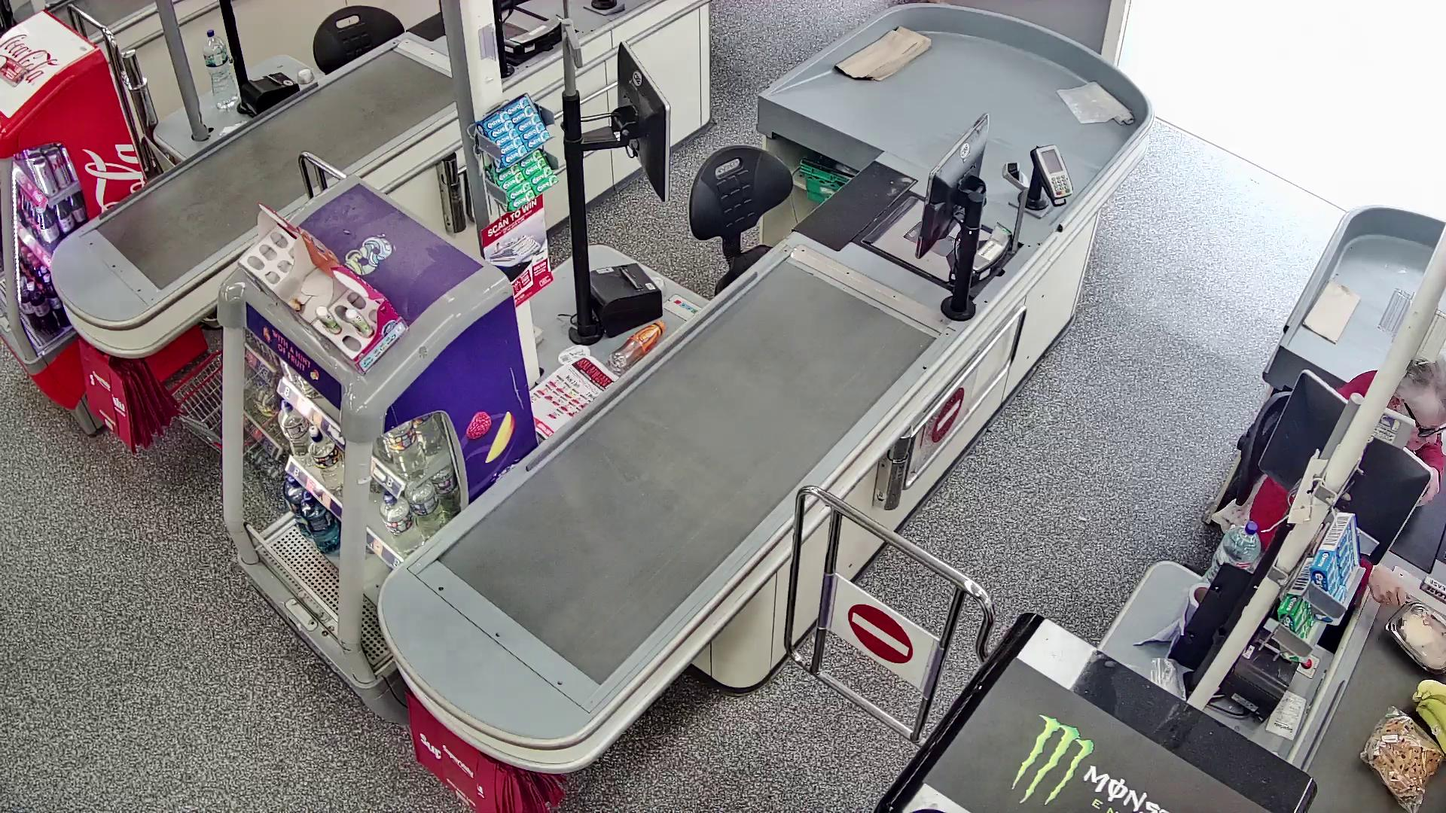occupied-checkout-counter: (1205, 316, 1446, 727)
vacant-checkout-counter: (533, 21, 1078, 372), (210, 0, 580, 139)
